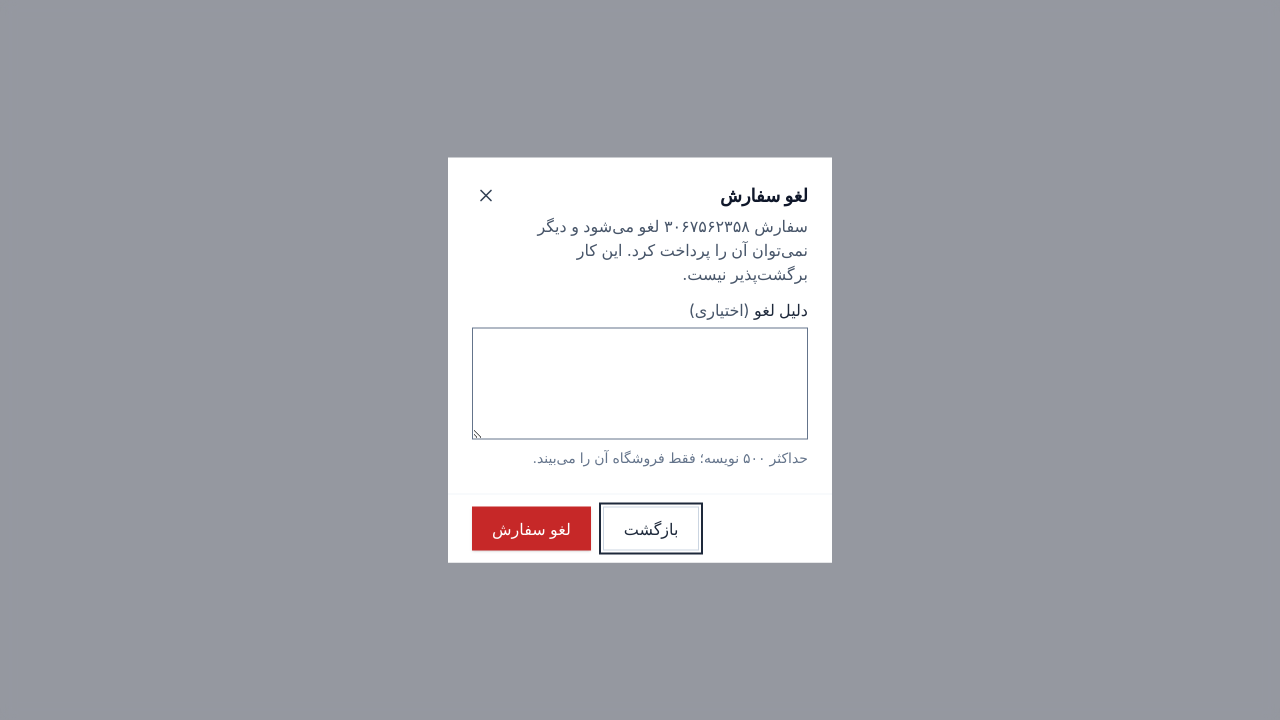
Test: refused › 429: the wait on the button; nothing sent while it runs
The image size is (1280, 720).
Later steps or results of the test are not shown.
Step 1. Click the button "لغو سفارش" → [531, 528], box [472,506,591,550]
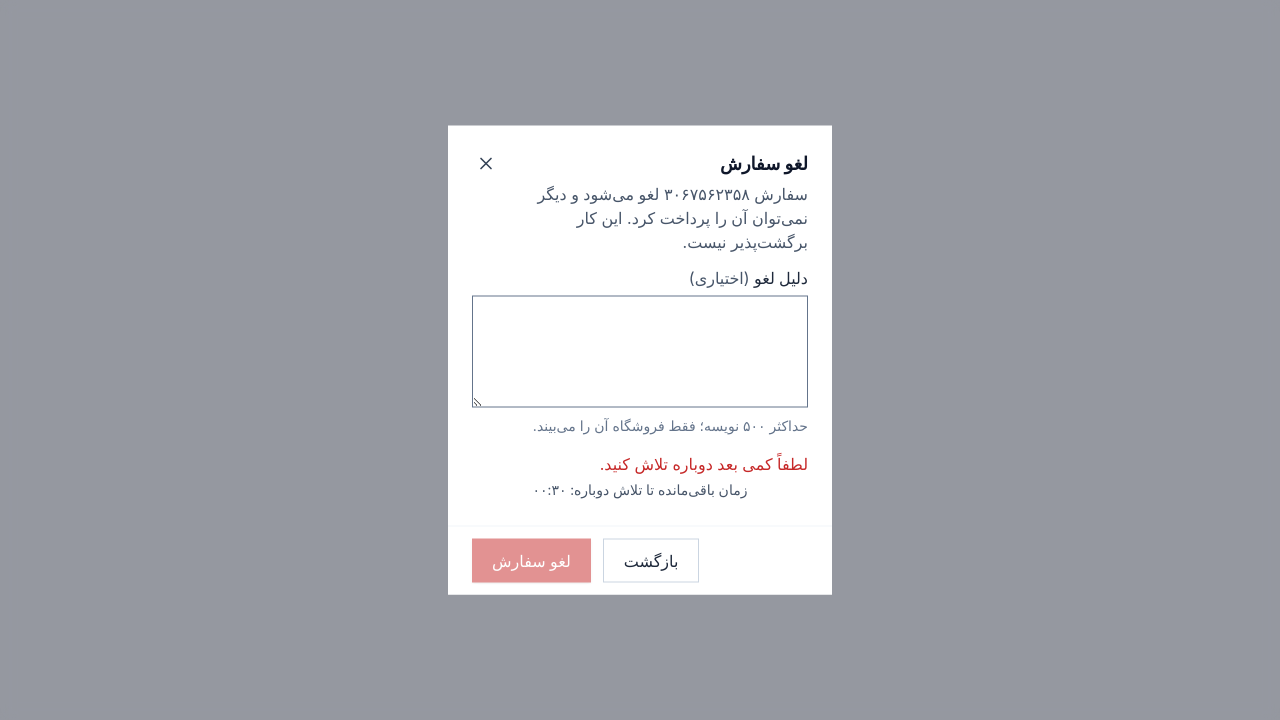
Check: the text "زمان باقی‌مانده تا تلاش دوباره: ۰۰:۳۰" is shown, box [533,480,747,498]
